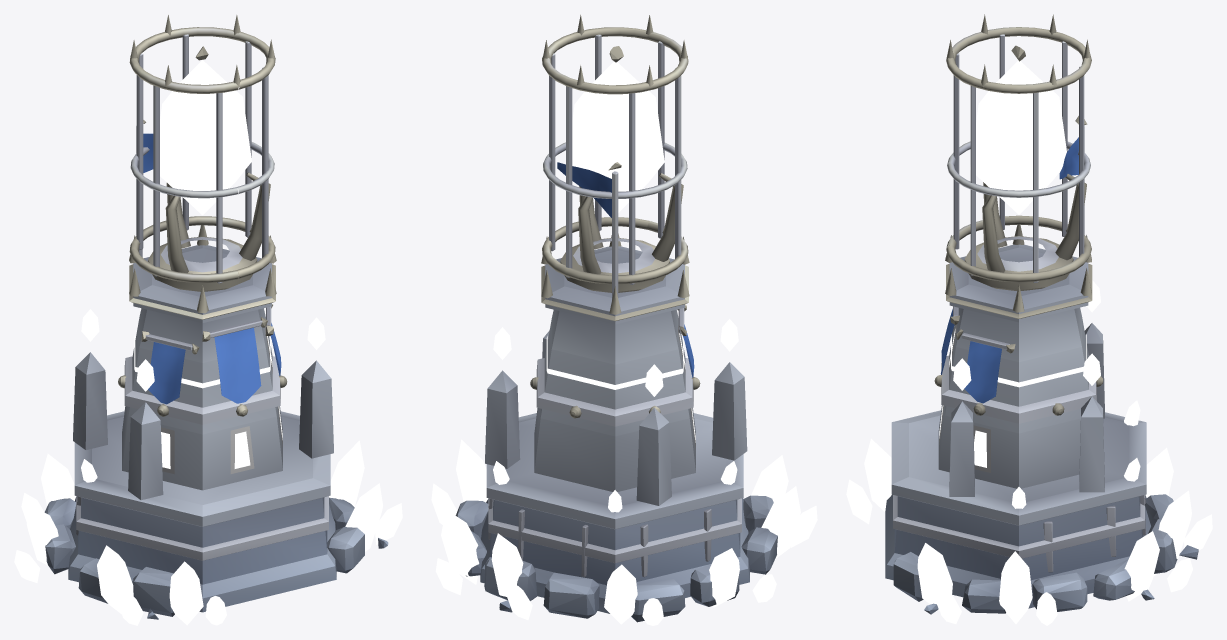
The model's file is frost_1_10.glb.
The picture shows the model from 3 angles, left to right: view 1: azimuth 30°, elevation 25°; view 2: azimuth 150°, elevation 25°; view 3: azimuth 270°, elevation 25°; orthographic projection.
Parts seen in each view (by area): view 1: Tower, Turret; view 2: Tower, Turret; view 3: Tower, Turret.
Boxes of the visible parts, <box> form: Tower: <box>14,120,402,625</box>; Turret: <box>129,15,275,291</box>; Tower: <box>431,162,817,625</box>; Turret: <box>542,14,688,292</box>; Tower: <box>846,116,1212,625</box>; Turret: <box>946,14,1091,290</box>.
Size of the model in its own units: 4.31 by 6.38 by 4.03.
